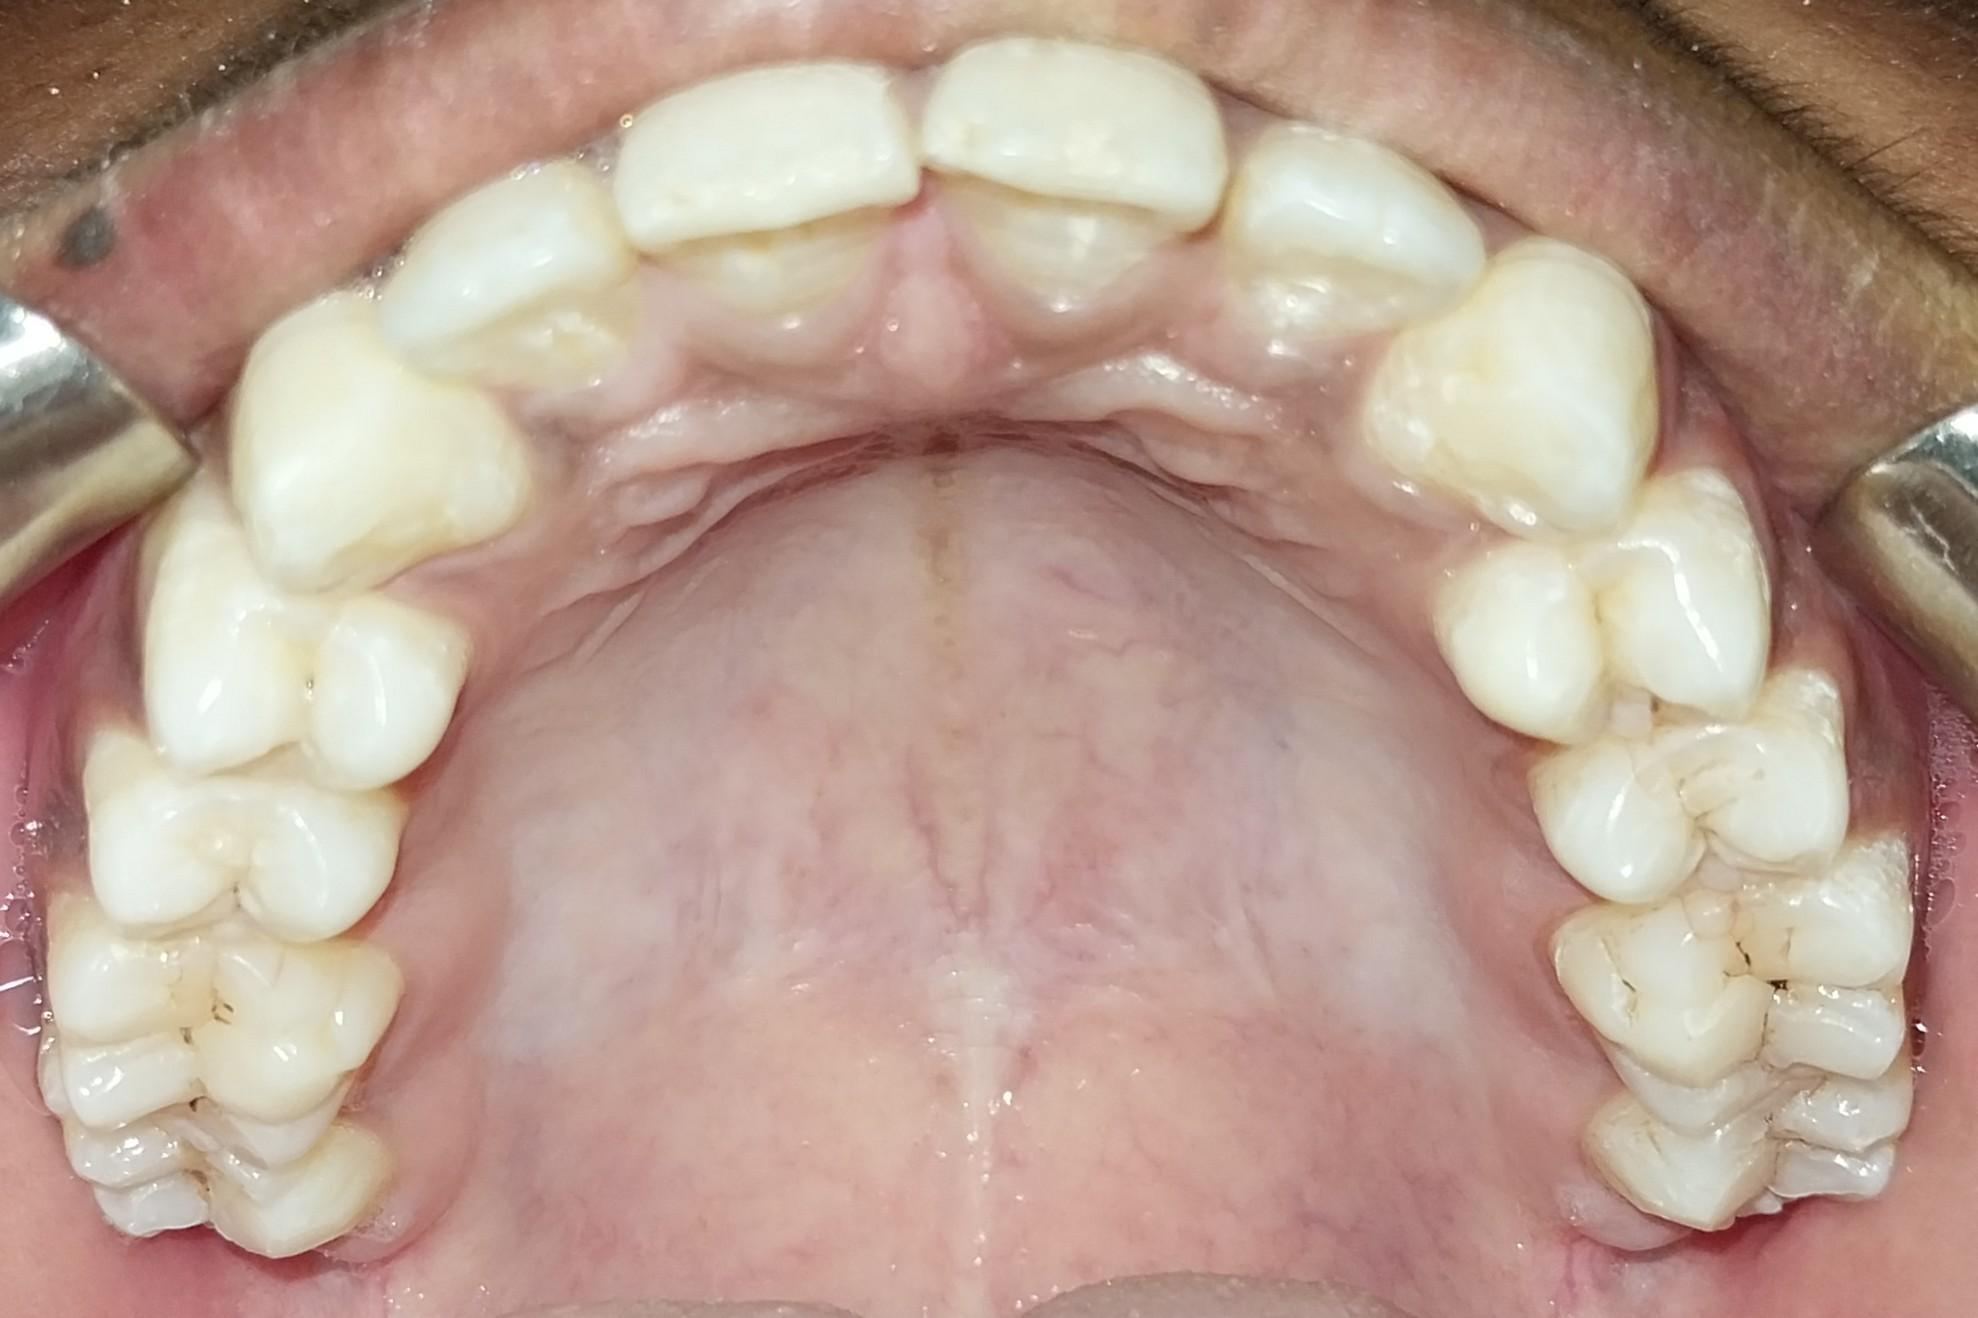D: (40, 907, 381, 1174), (1549, 879, 1904, 1127)
